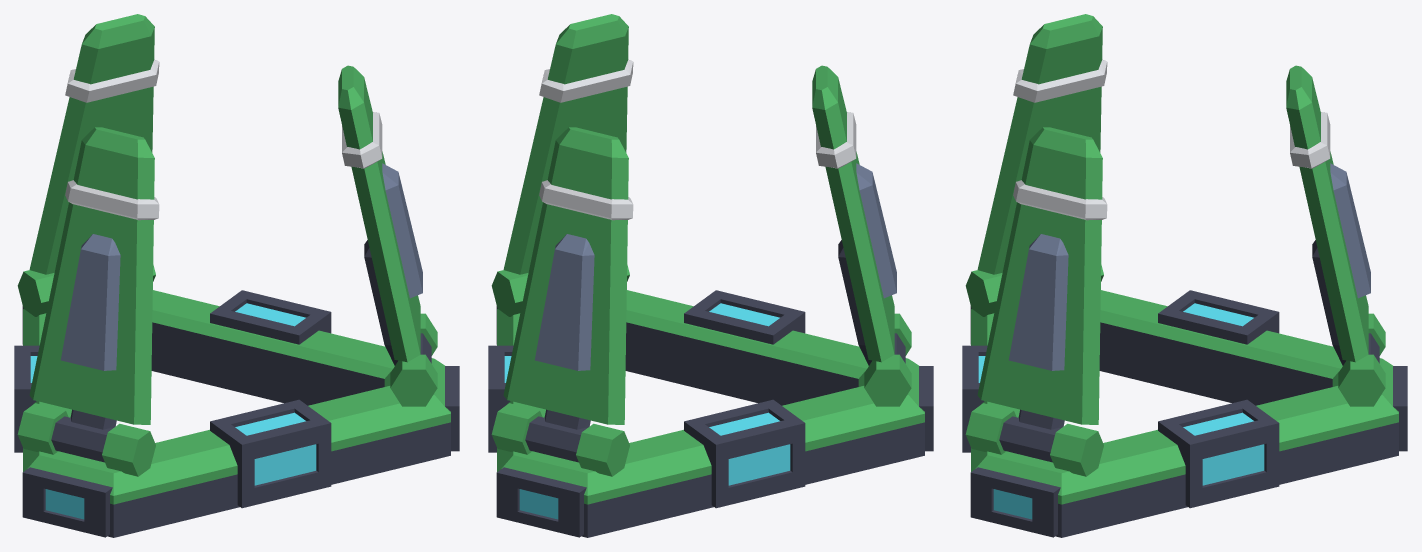
Rendered from null-field-emitter-1e2a9f.glb.
The picture shows the model from 3 angles, left to right: view 1: azimuth 30°, elevation 25°; view 2: azimuth 150°, elevation 25°; view 3: azimuth 270°, elevation 25°; orthographic projection.
Visible parts, largest first — view 1: base-metal, base-matte, fin-left-matte, fin-back-matte, fin-right-matte, fin-left-metal, base-crystal, fin-right-metal; view 2: base-metal, base-matte, fin-back-matte, fin-right-matte, fin-left-matte, fin-back-metal, base-crystal, fin-left-metal; view 3: base-metal, base-matte, fin-right-matte, fin-left-matte, fin-back-matte, fin-right-metal, base-crystal, fin-back-metal.
Part boxes in pixels (x1,y1,x2,y2): base-metal: [14, 290, 459, 537]; base-matte: [17, 265, 450, 504]; fin-left-matte: [29, 127, 159, 424]; fin-back-matte: [29, 14, 159, 274]; fin-right-matte: [338, 65, 420, 362]; fin-left-metal: [61, 234, 120, 429]; base-crystal: [30, 303, 316, 519]; fin-right-metal: [364, 163, 422, 365]; base-metal: [488, 290, 933, 537]; base-matte: [491, 265, 924, 504]; fin-back-matte: [503, 127, 633, 424]; fin-right-matte: [503, 14, 633, 274]; fin-left-matte: [812, 65, 894, 362]; fin-back-metal: [535, 234, 594, 429]; base-crystal: [504, 303, 790, 519]; fin-left-metal: [838, 163, 896, 365]; base-metal: [962, 290, 1407, 537]; base-matte: [965, 265, 1398, 504]; fin-right-matte: [977, 127, 1107, 424]; fin-left-matte: [977, 14, 1107, 274]; fin-back-matte: [1286, 65, 1368, 362]; fin-right-metal: [1009, 234, 1068, 429]; base-crystal: [978, 303, 1264, 519]; fin-back-metal: [1312, 163, 1370, 365].
Bounding box in the file's own units: 0.6848 × 0.5342 × 0.6042.
